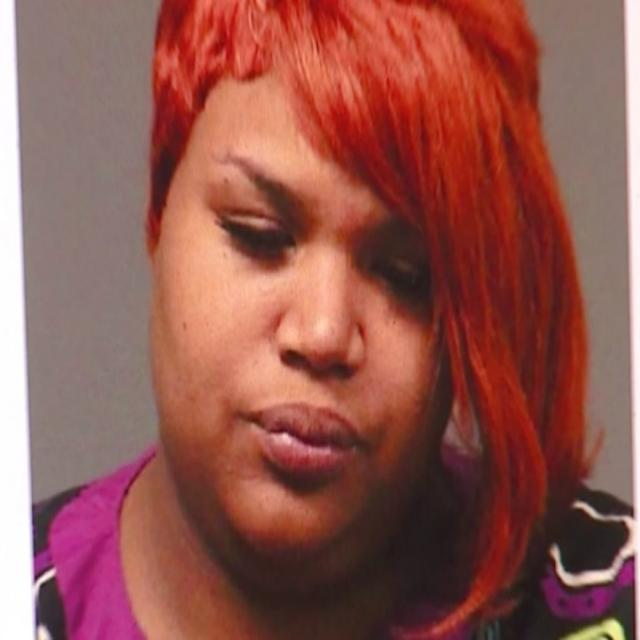mobile_phonerotation: (20, 1, 633, 636)
